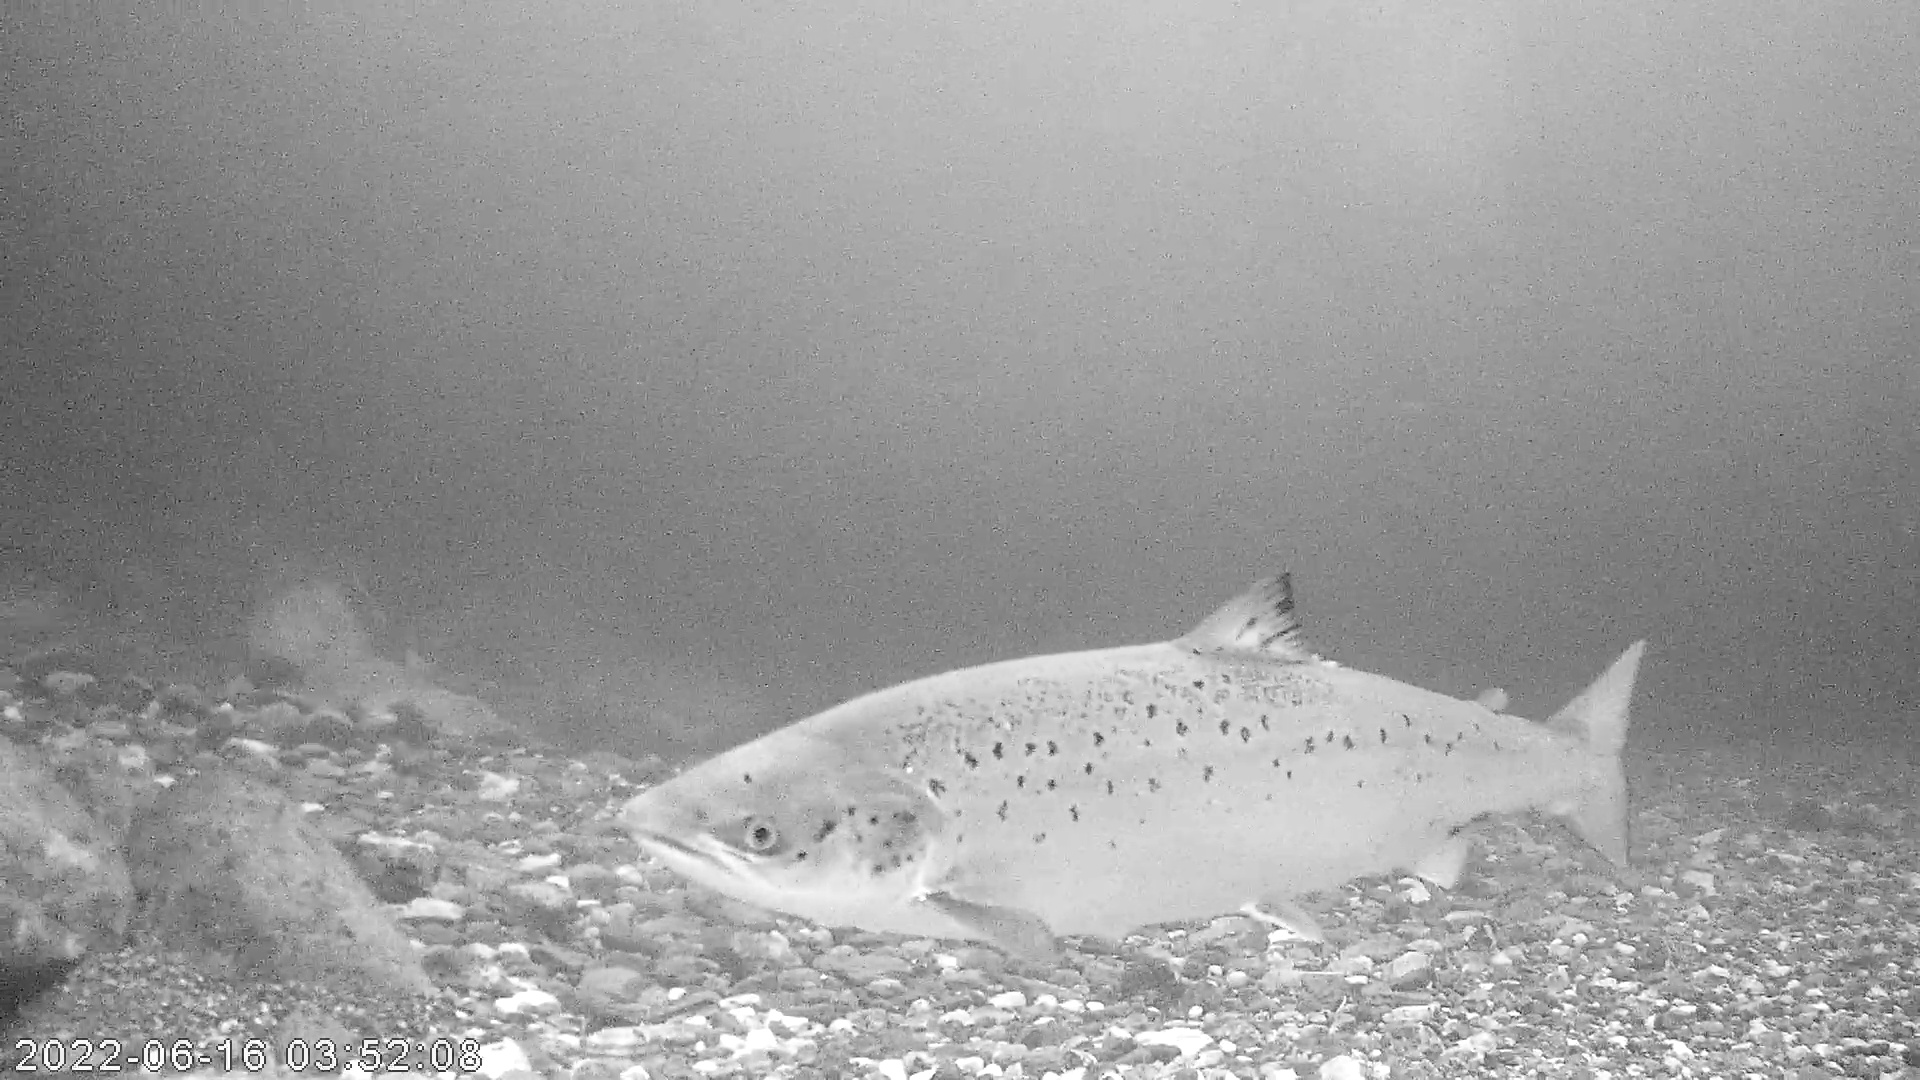salmon: (617, 567, 1648, 968)
